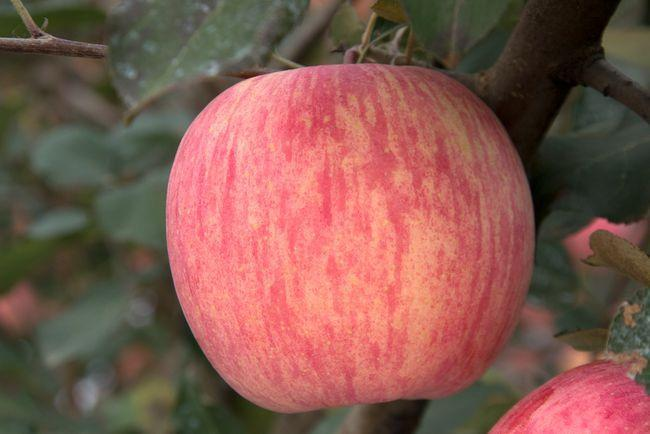apple: (158, 65, 531, 415), (487, 361, 649, 434)
